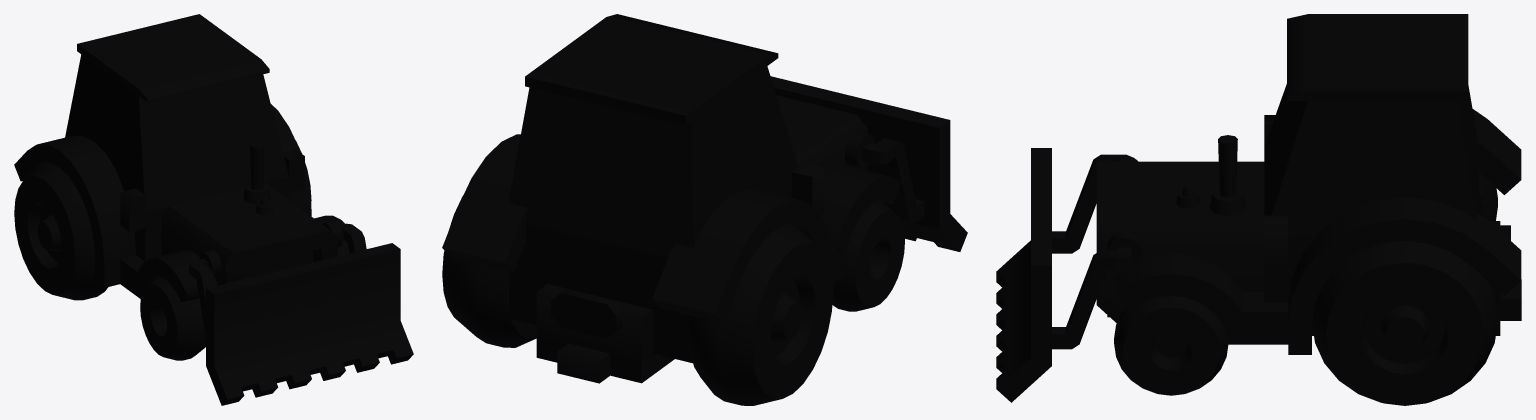
The model's file is tractor-shovel.glb.
3 views of the same model, side by side, from view 1: azimuth 30°, elevation 25°; view 2: azimuth 150°, elevation 25°; view 3: azimuth 270°, elevation 25° (orthographic). The views are drawn at different scales.
Visible parts, largest first — view 1: body, shovel, wheel-back-right, wheel-front-right; view 2: body, wheel-back-right, shovel, wheel-front-right, wheel-back-left; view 3: body, wheel-back-left, shovel, wheel-front-left, wheel-back-right.
Part boxes in pixels (<box>): body: <box>14,14,349,302</box>; shovel: <box>189,220,413,405</box>; wheel-back-right: <box>14,162,108,300</box>; wheel-front-right: <box>140,276,205,360</box>; body: <box>442,14,900,383</box>; wheel-back-right: <box>689,224,833,405</box>; shovel: <box>770,76,967,251</box>; wheel-front-right: <box>832,200,904,311</box>; wheel-back-left: <box>442,195,536,347</box>; body: <box>1096,14,1521,354</box>; wheel-back-left: <box>1312,241,1497,405</box>; shovel: <box>996,148,1142,402</box>; wheel-front-left: <box>1114,295,1228,395</box>; wheel-back-right: <box>1479,172,1497,220</box>.
Bounding box in the file's own units: 1.66 × 1.51 × 2.47.
1 material, 1 textured.
